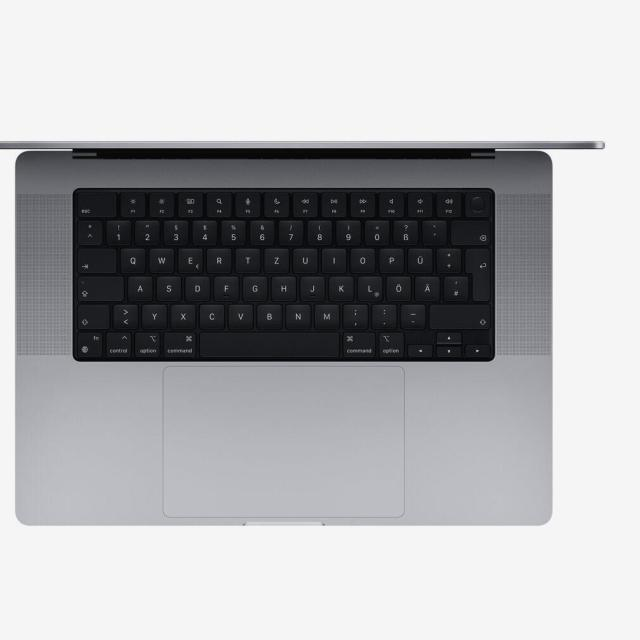0: (363, 218, 389, 244)
1: (104, 217, 130, 243)
2: (133, 217, 159, 243)
3: (162, 218, 188, 244)
4: (191, 217, 217, 243)
5: (219, 217, 245, 243)
6: (248, 217, 274, 243)
7: (276, 217, 302, 243)
8: (305, 218, 331, 244)
9: (334, 218, 360, 244)
a: (125, 273, 151, 299)
accent: (420, 217, 446, 243)
ae: (413, 273, 439, 299)
alt-left: (133, 329, 161, 357)
altgr-right: (376, 329, 404, 357)
b: (255, 301, 281, 327)
c: (197, 302, 223, 328)
caret: (75, 217, 101, 243)
comma: (341, 301, 367, 327)
d: (183, 273, 209, 299)
del: (448, 218, 490, 244)
e: (176, 245, 202, 271)
enter: (463, 245, 491, 300)
f: (212, 273, 238, 299)
g: (240, 273, 266, 299)
h: (269, 273, 295, 299)
hash: (441, 273, 467, 299)
i: (319, 245, 345, 271)
j: (298, 273, 324, 299)
k: (326, 273, 352, 299)
keyboard: (68, 187, 499, 364)
l: (355, 273, 381, 299)
less: (111, 302, 137, 328)
m: (312, 302, 338, 328)
minus: (398, 302, 424, 328)
n: (283, 301, 309, 327)
o: (348, 246, 374, 272)
oe: (384, 273, 410, 299)
p: (377, 245, 403, 271)
plus: (434, 245, 460, 271)
point: (370, 301, 396, 327)
q: (118, 246, 144, 272)
r: (205, 246, 231, 272)
s: (154, 274, 180, 300)
shift-left: (75, 302, 109, 328)
shift-lock: (75, 274, 123, 300)
shift-right: (427, 302, 490, 328)
space: (197, 329, 339, 357)
ss: (391, 217, 417, 243)
strg-left: (104, 329, 132, 357)
t: (233, 245, 259, 271)
tab: (75, 246, 115, 272)
u: (291, 245, 317, 271)
ue: (405, 245, 431, 271)
v: (226, 301, 252, 327)
w: (147, 245, 173, 271)
x: (169, 301, 195, 327)
y: (140, 302, 166, 328)
z: (262, 245, 288, 271)
